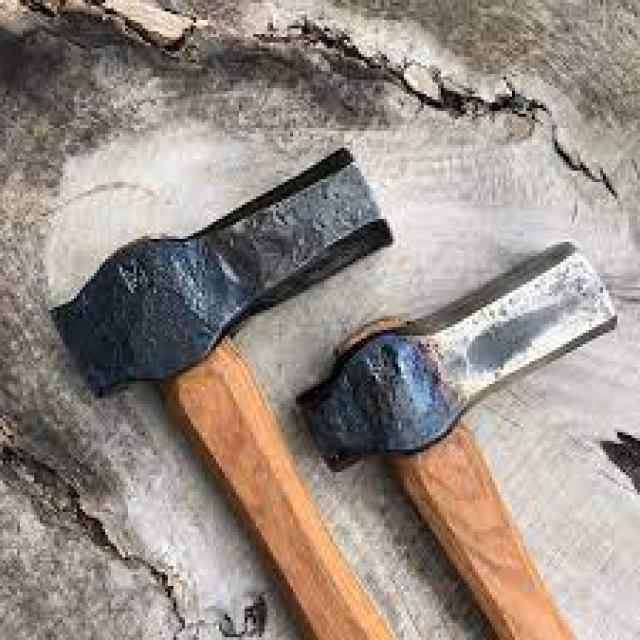hammer: (41, 145, 411, 640), (293, 233, 623, 640)
